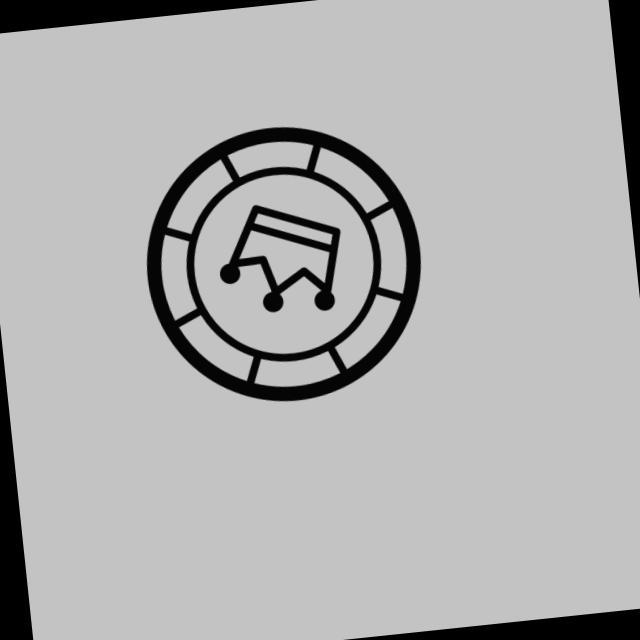coin: (126, 104, 444, 421)
